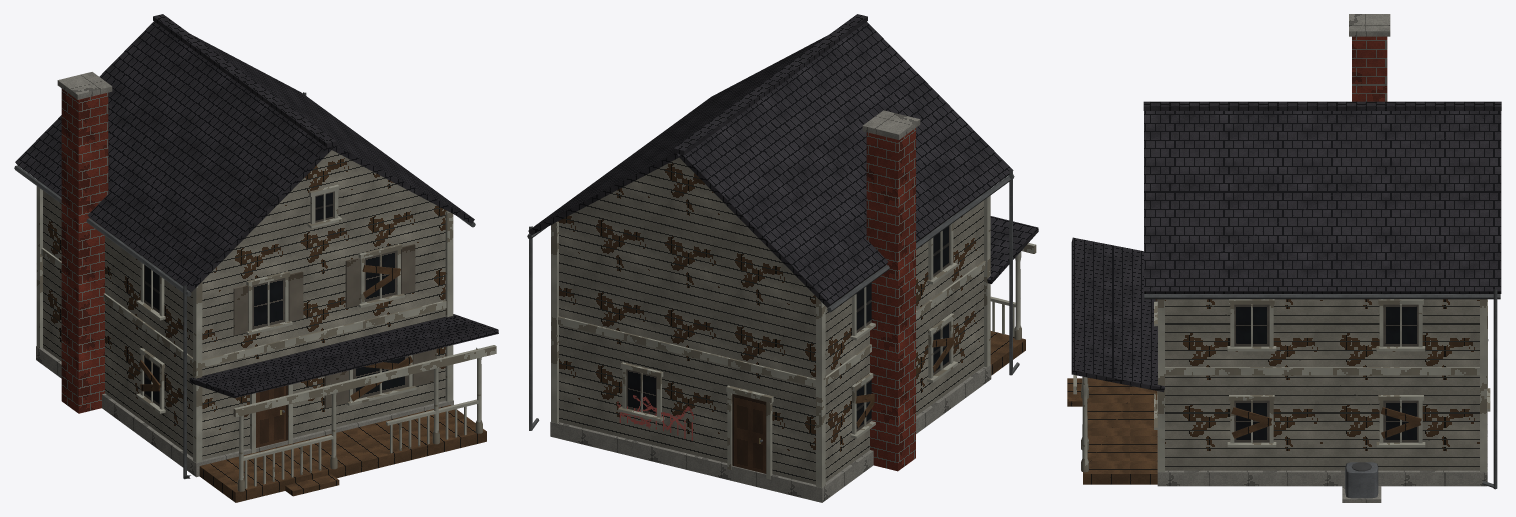
Rendered from town_house_e.glb.
3 views of the same model, side by side, from view 1: azimuth 30°, elevation 25°; view 2: azimuth 150°, elevation 25°; view 3: azimuth 270°, elevation 25° (orthographic). The views are drawn at different scales.
Parts seen in each view (by area): view 1: detail, shell-col; view 2: detail, shell-col; view 3: detail, shell-col.
Boxes of the visible parts, x1,y1,x2,y2 form: detail: (14,14,498,491); shell-col: (36,185,486,502); detail: (527,14,1038,487); shell-col: (550,193,1025,502); detail: (1071,14,1501,502); shell-col: (1067,299,1487,486).
Size of what is drawn, in the model's own units: 9.58 by 9.27 by 11.06.
Materials: 14 (14 with a texture image).
